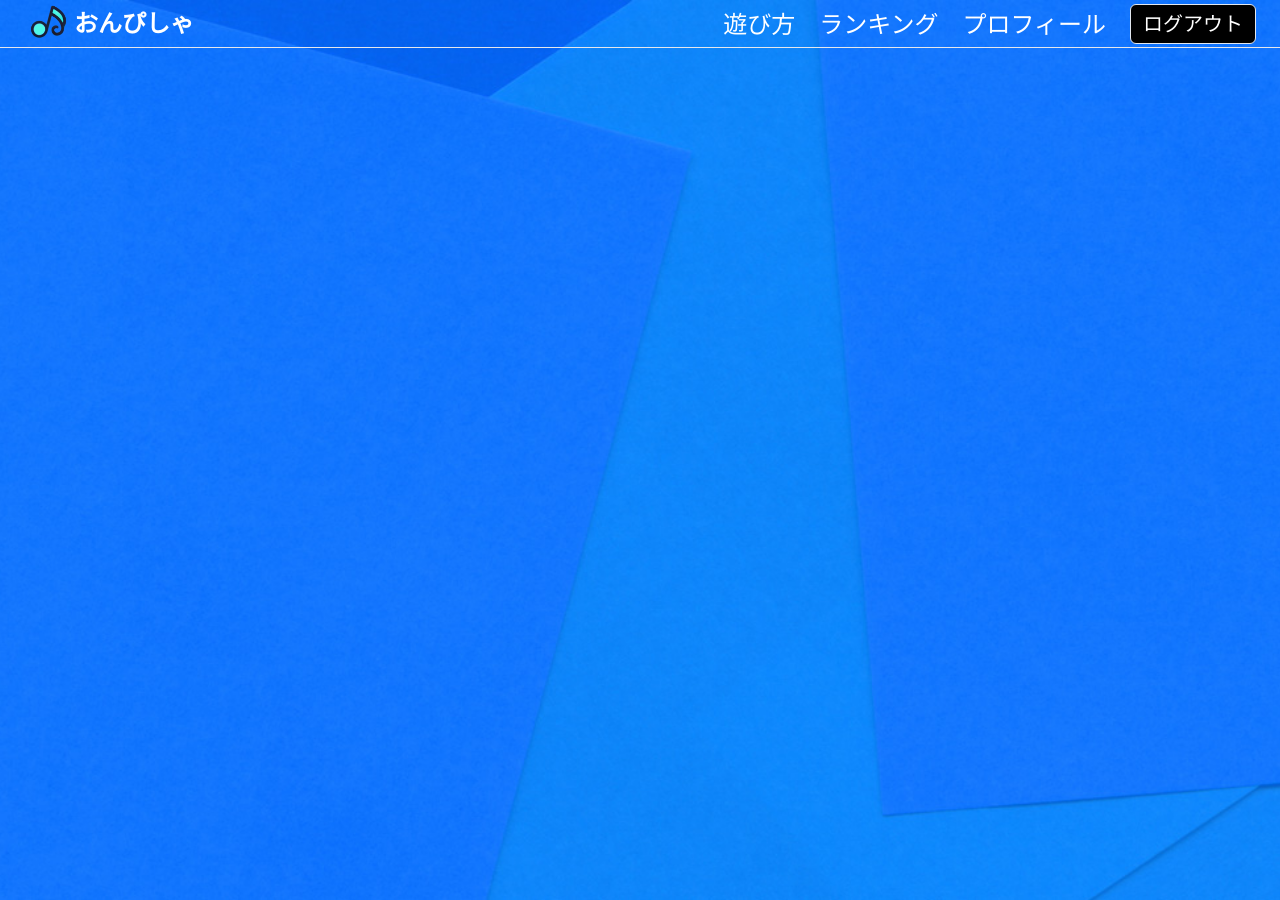
Test case: ヘッダー › '遊び方'モーダルで'通常'ボタンをクリックすると通常モードの説明が開く
The image size is (1280, 900).
Click the button "遊び方" at x=759, y=24, box [723, 8, 795, 40]
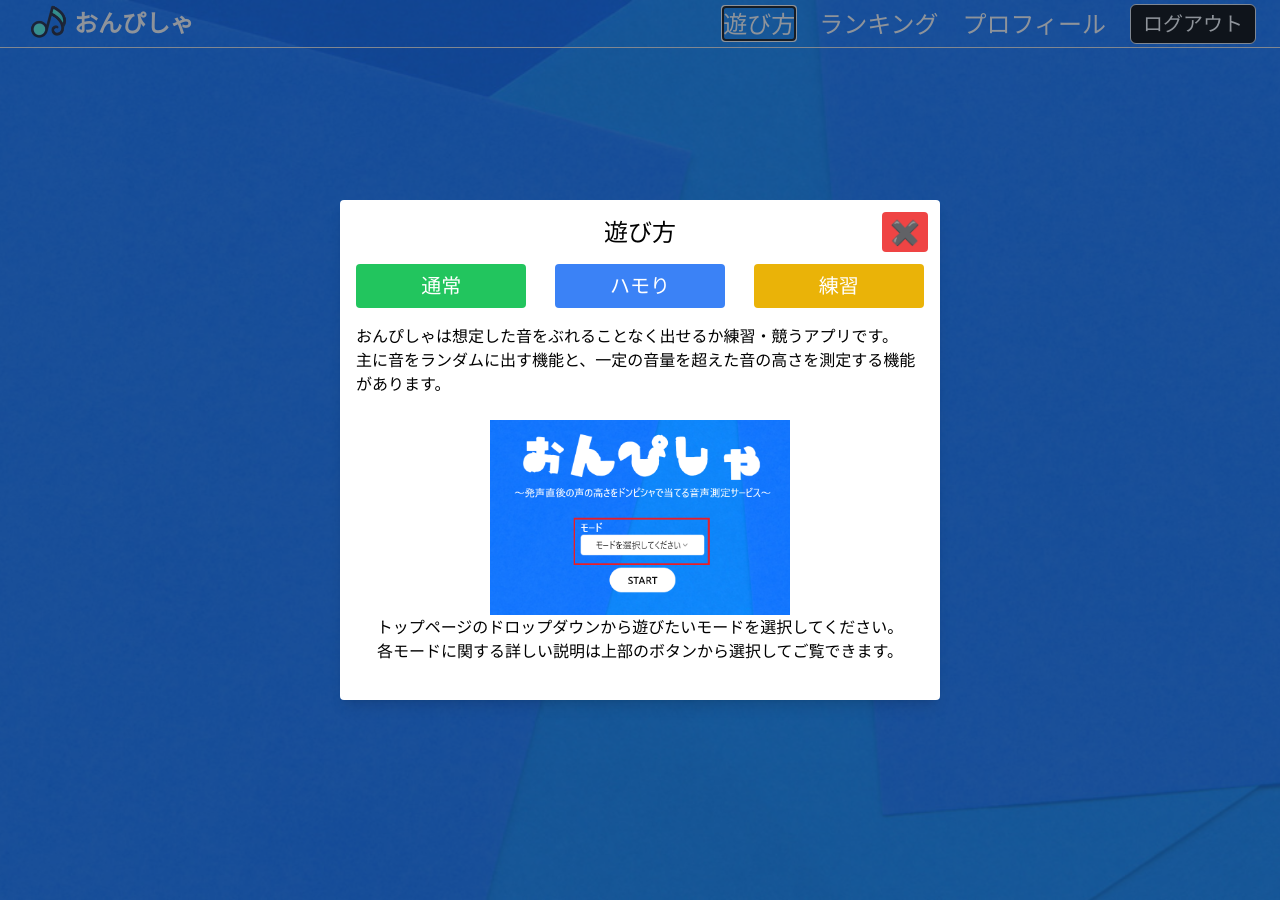
Check: the button "通常" is shown
Click the button "通常" at x=441, y=286, box [356, 264, 526, 308]
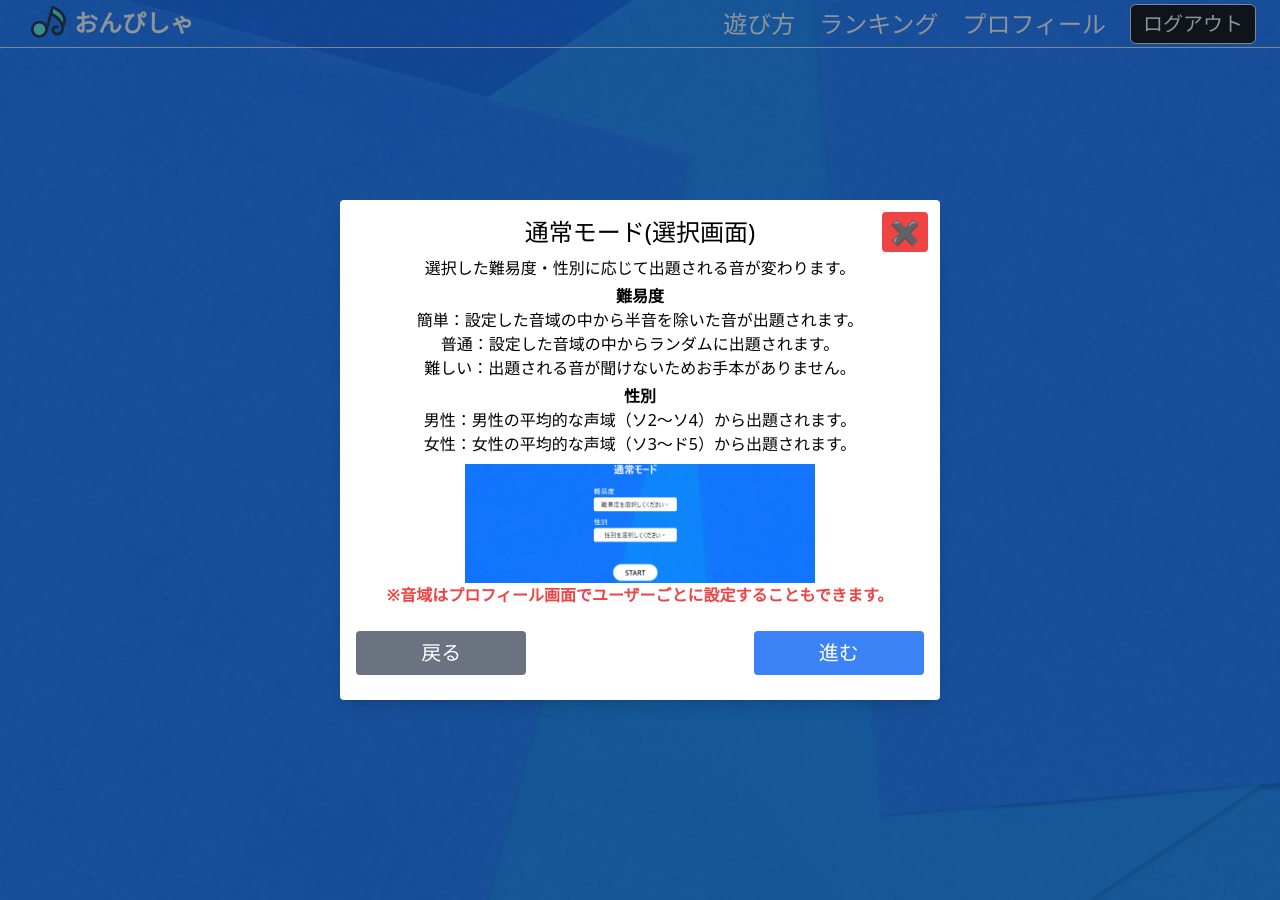
Check: the heading "通常モード(選択画面)" is shown, box [525, 216, 755, 248]
